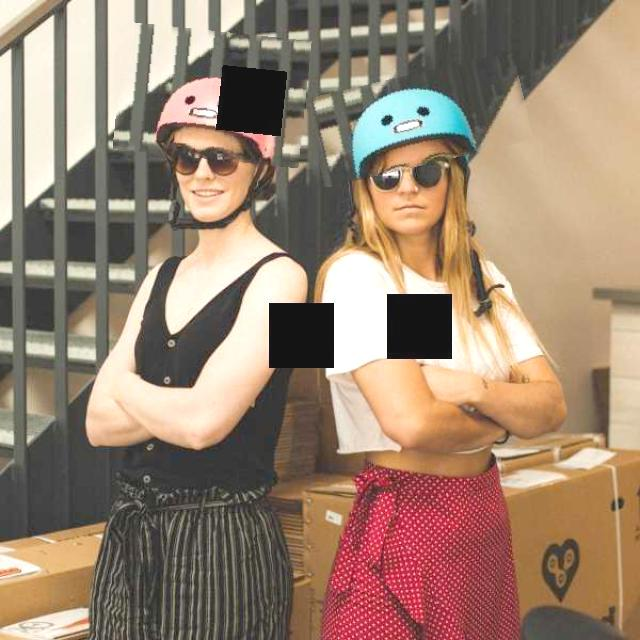helmet: (116, 27, 309, 164), (308, 63, 530, 176)
